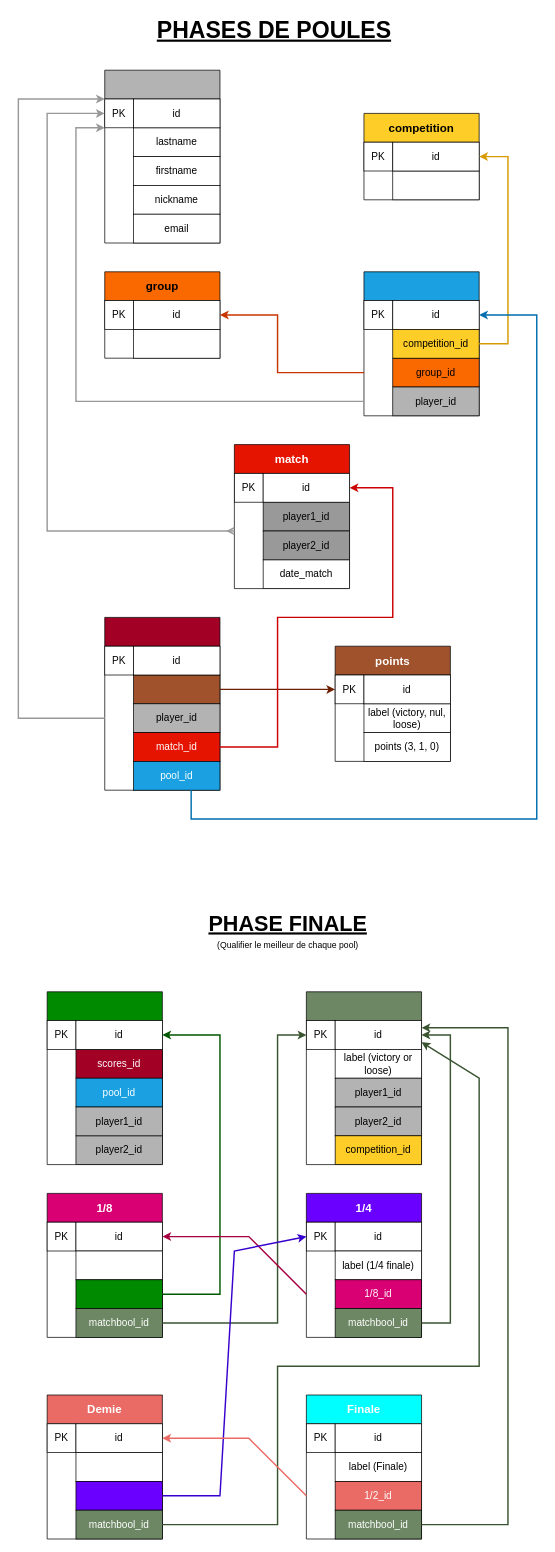
The diagram is 555 pixels wide and 1552 high, and some of its shapes have lost their labels. The box of each missing label's shape, as (x1, y1, x2, y2) in pixels:
1/4_id: (75, 1481, 162, 1510)
label: (392, 170, 479, 200)
label (1/2 finale): (75, 1452, 162, 1481)
label (1/8 finale): (75, 1250, 162, 1280)
label (group A B C D E F G H): (133, 329, 220, 358)
matchbool: (306, 991, 422, 1165)
player: (104, 69, 220, 243)
points_id: (133, 674, 220, 704)
pool: (363, 271, 479, 416)
scores: (104, 617, 220, 790)
winnerofpool_id: (75, 1279, 162, 1309)
winnersofpool: (46, 991, 162, 1165)
